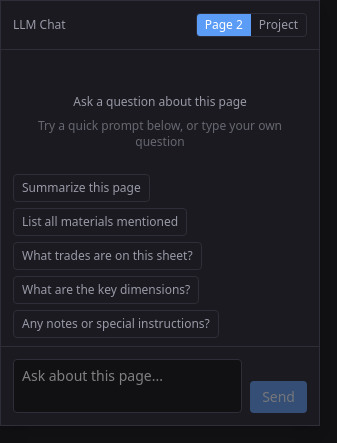
Test: ChatPanel — send success (T-B2) › appends user echo then the completed assistant message; POST body carries page scope
This screenshot has width=337, height=443.
Type "hi" into the text box with placeholder "Ask about this page..." at point(128, 386), box [13,359,242,413]
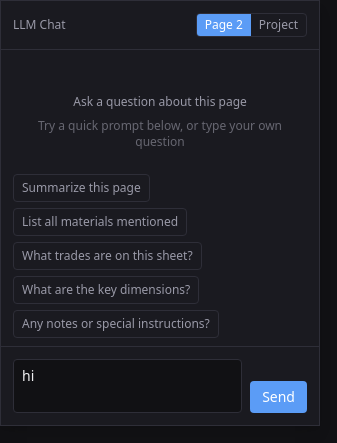
Click the button "Send" at point(279, 397), box [250,381,307,413]
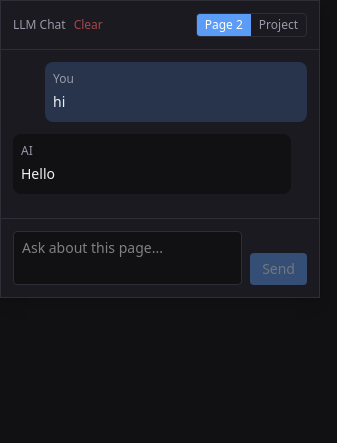
Check: the text "AI" is shown once, box [21,142,33,159]
Check: the text box with placeholder "Ask about this page..." is empty, box [13,231,242,285]
